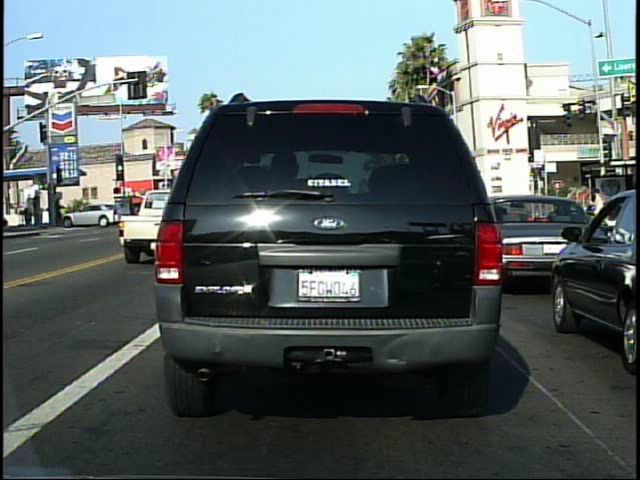person: (588, 185, 610, 241)
